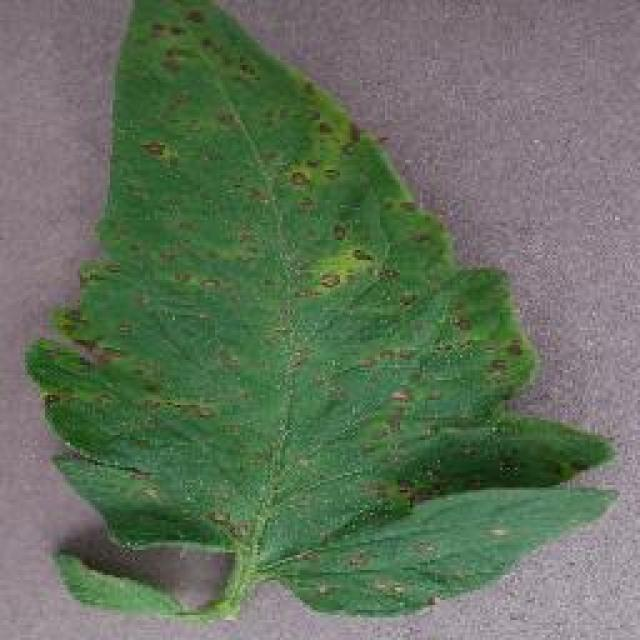Tomato___Septoria_leaf_spot: (28, 0, 612, 618)
